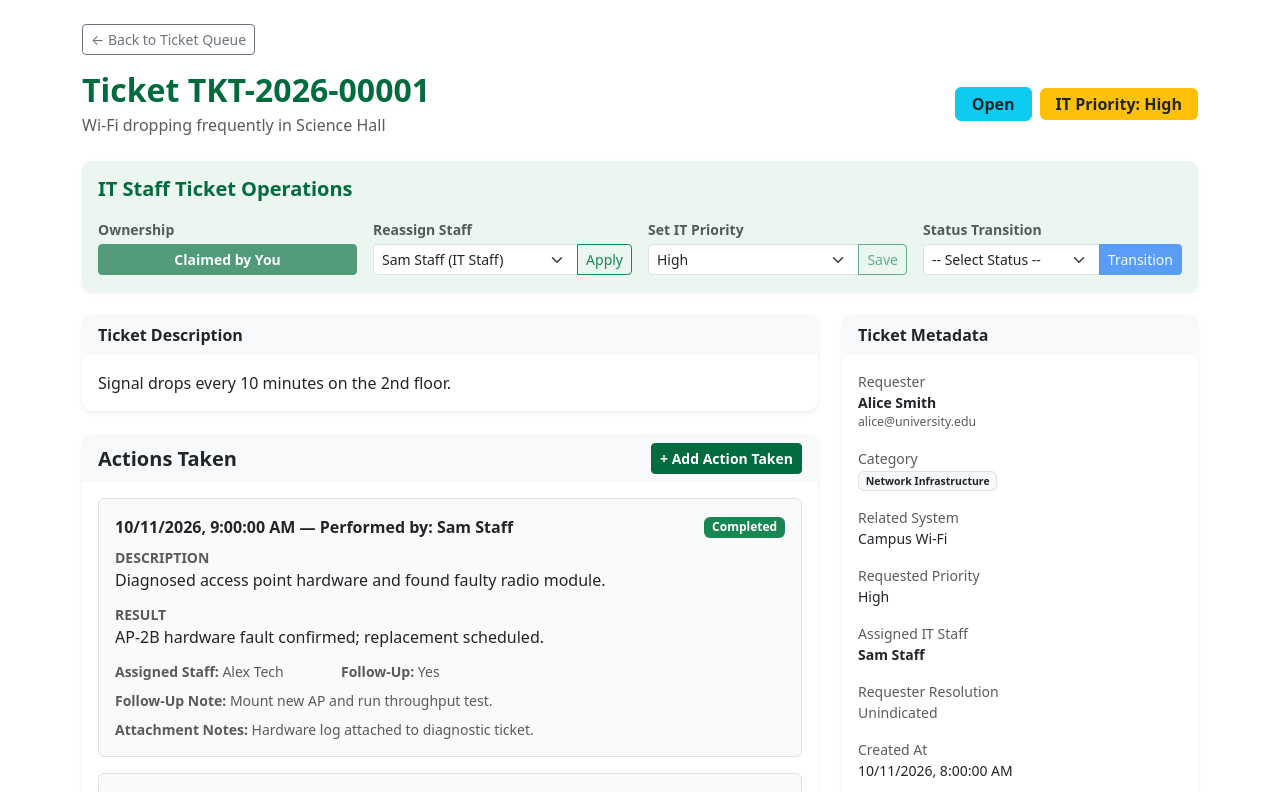
Test: StaffTicketDetail — Lab 4 Actions Taken UI & Resolution Workflow (Issue #46) › 2. Add Action Taken Form & Validation › AT-UI-05: Clicking 'Add Action Taken' opens form with read-only Performed By matching authenticated user
Click the button "+ Add Action Taken" at (726, 459), box x1=651 y1=443 x2=802 y2=474
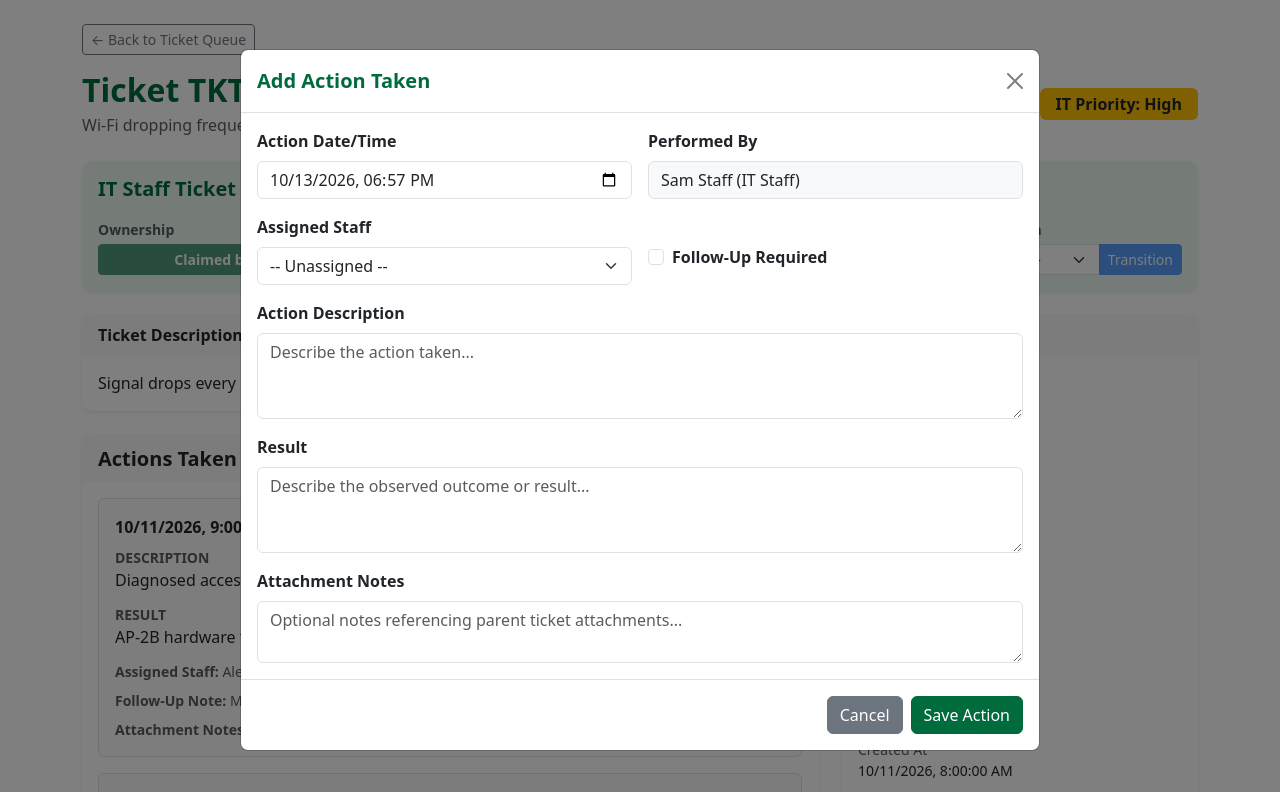
expect the text box labelled "Action Description" is shown: met, box x1=257 y1=333 x2=1023 y2=419
expect the text box labelled "Result" is shown: met, box x1=257 y1=467 x2=1023 y2=553
expect the text "Sam Staff (IT Staff)" is shown: met, box x1=648 y1=161 x2=1023 y2=199
